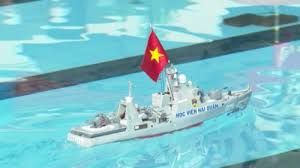tau_muctieu: (66, 70, 248, 131)
